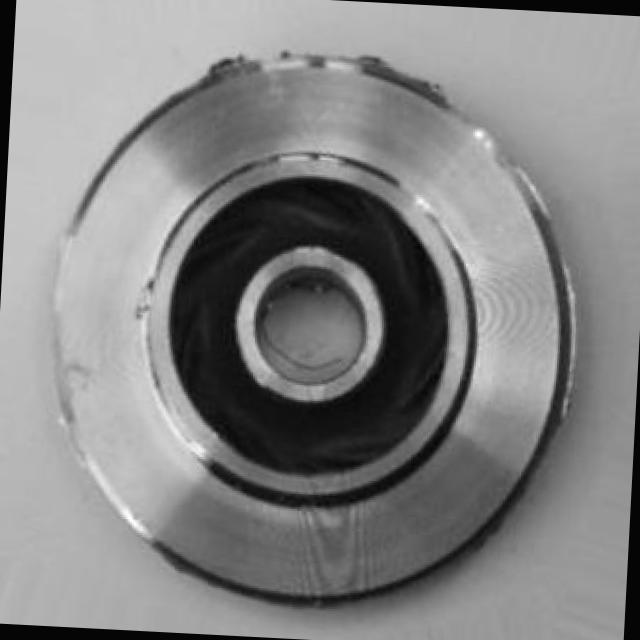Defect: (344, 43, 412, 91)
